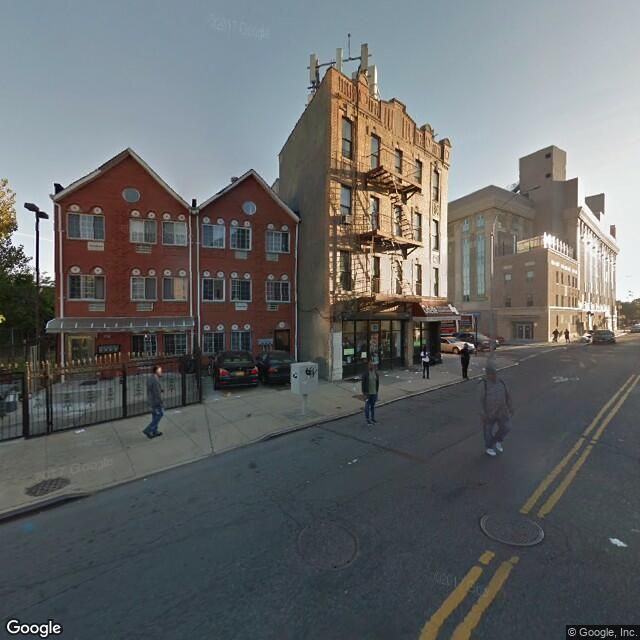litter: (605, 534, 630, 549), (71, 427, 88, 436), (347, 384, 361, 392), (171, 407, 184, 415), (234, 392, 245, 398), (213, 395, 222, 402), (475, 376, 485, 382), (469, 361, 474, 373), (403, 376, 412, 382), (392, 374, 402, 379), (381, 367, 388, 374), (345, 461, 359, 464), (139, 478, 148, 482), (481, 365, 486, 371)
